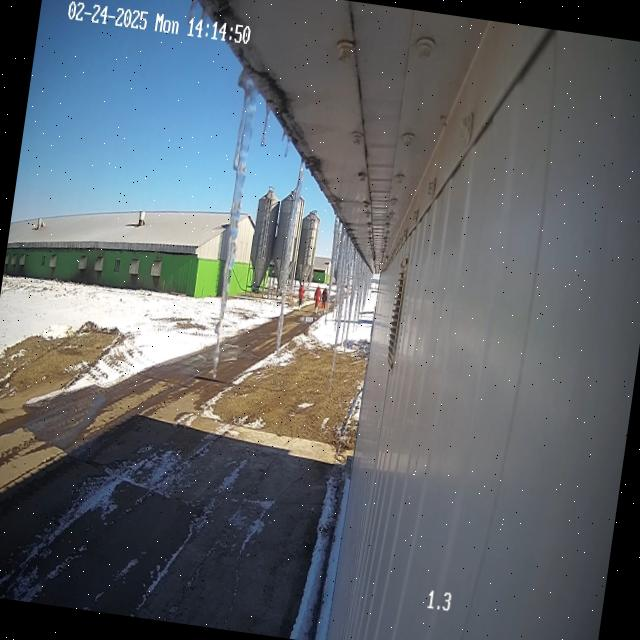Red uniform: (314, 286, 321, 313), (298, 283, 305, 308), (321, 288, 328, 313)
